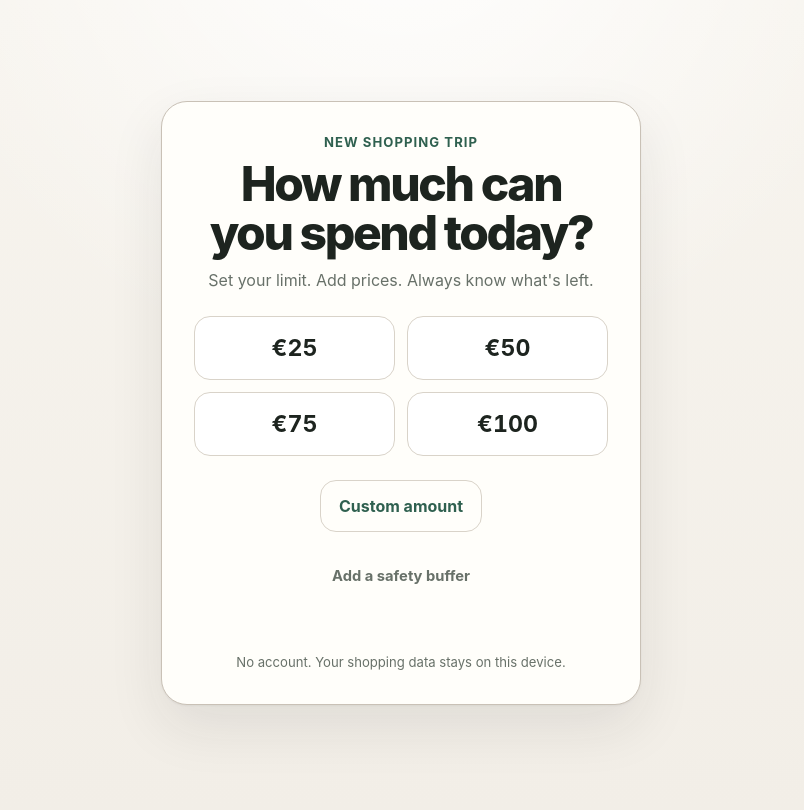
Test: StartTripScreen › lets the domain reject a zero custom budget without duplicating the rule
Click the button "Custom amount" at (401, 506), box [320, 480, 482, 532]
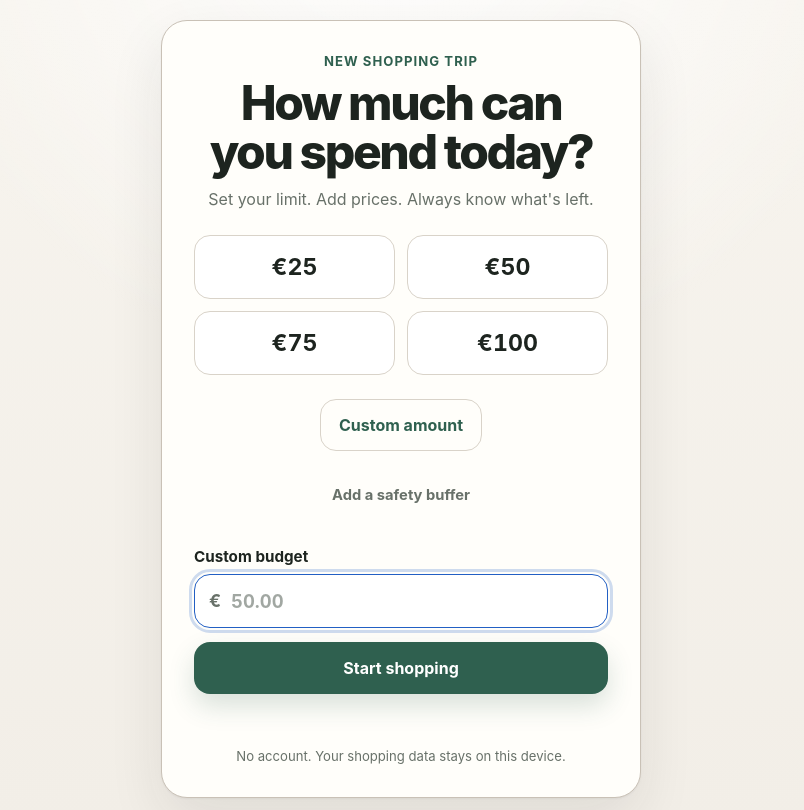
Type "0" into the field labelled "Custom budget" at (411, 601), box [229, 589, 593, 613]
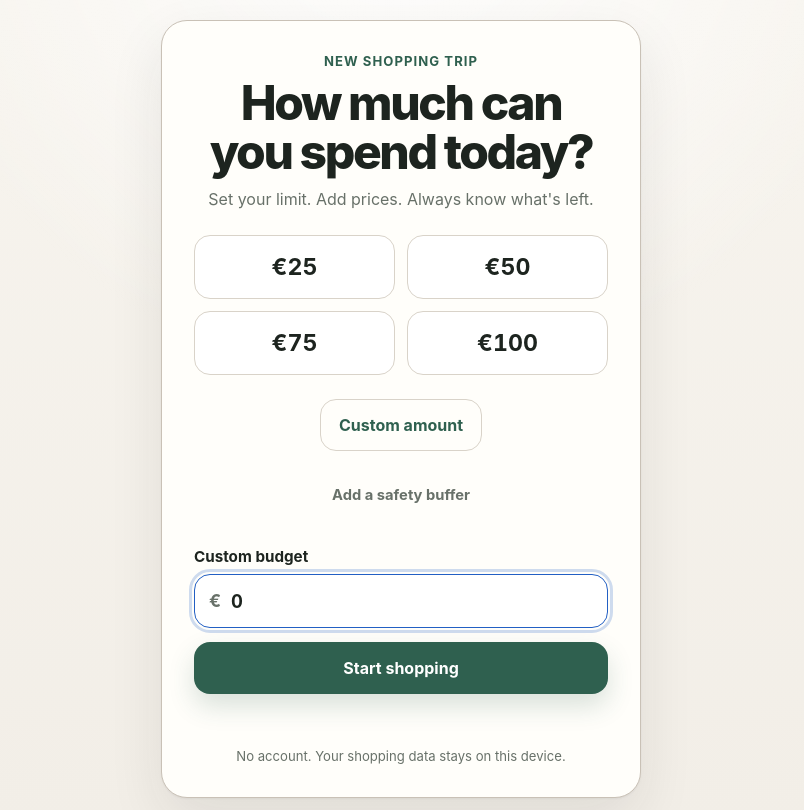
Click the button "Start shopping" at (401, 668), box [194, 642, 608, 694]
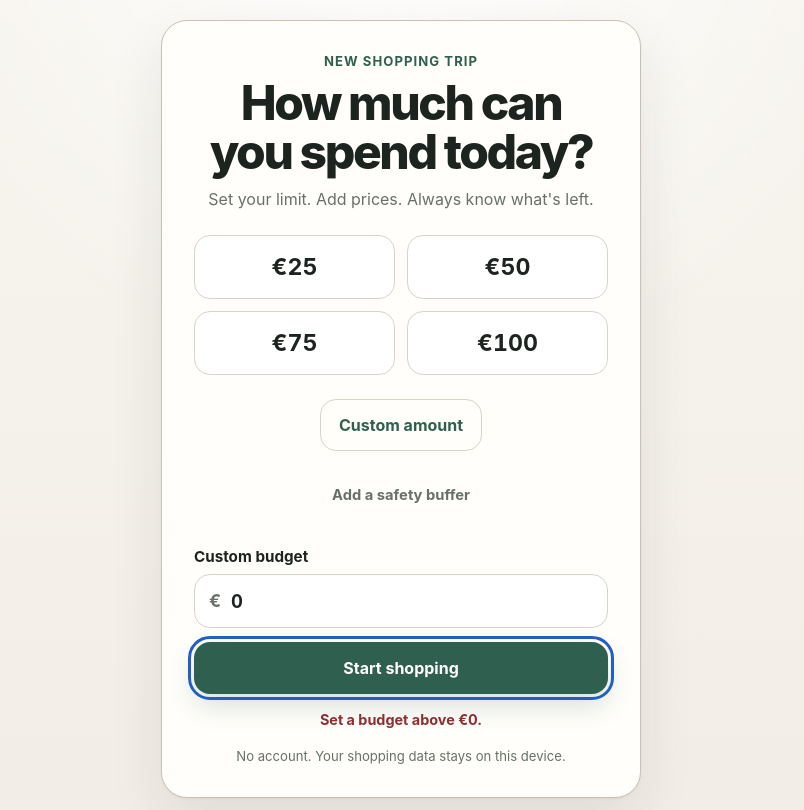
expect the message reads "Set a budget above €0.": met, box [320, 711, 482, 728]
